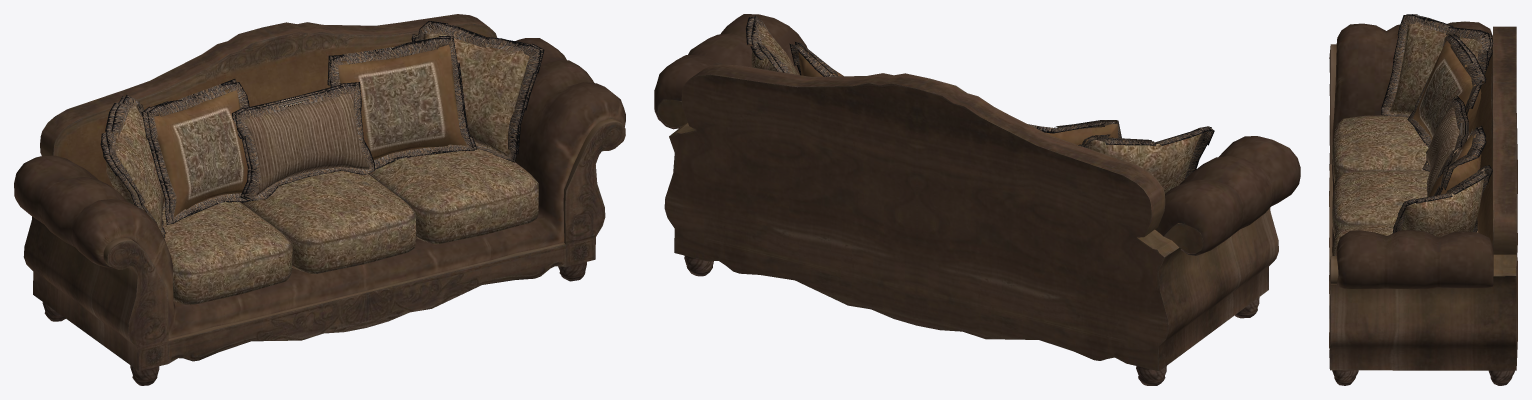
The model's file is sofa_03.glb.
The picture shows the model from 3 angles, left to right: view 1: azimuth 30°, elevation 25°; view 2: azimuth 150°, elevation 25°; view 3: azimuth 270°, elevation 25°; orthographic projection. The views are drawn at different scales.
Visible parts, largest first — view 1: sofa_03; view 2: sofa_03; view 3: sofa_03.
Boxes of the visible parts, x1,y1,x2,y2 form: sofa_03: (14,14,625,385); sofa_03: (654,14,1300,385); sofa_03: (1329,14,1517,385).
Size of the model in its own units: 2.73 by 1.12 by 0.9251.
Materials: 2 (2 with a texture image).
